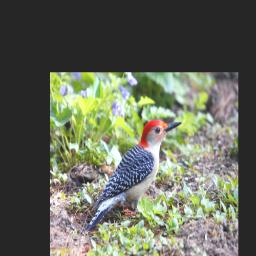Woodpecker: (84, 119, 182, 232)
